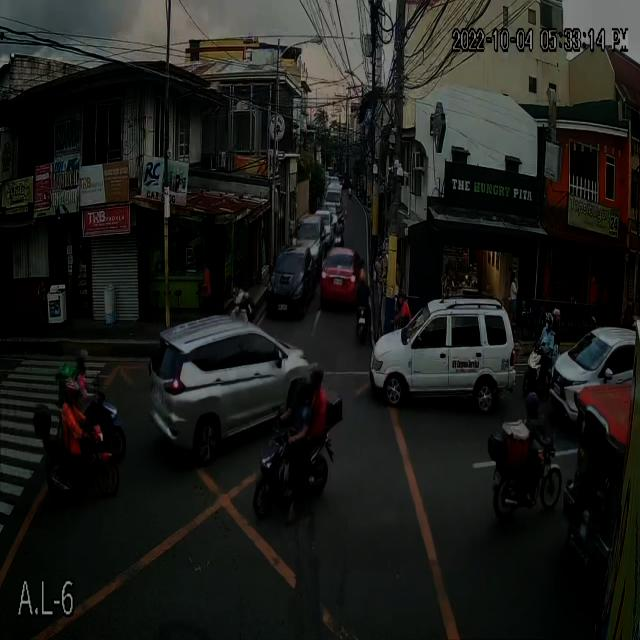Full-Faced: (289, 374, 310, 414), (59, 376, 81, 409), (524, 385, 540, 418), (582, 307, 596, 332), (554, 303, 562, 326)
Half-Faced: (73, 344, 97, 388), (306, 359, 326, 394), (543, 307, 557, 337)
